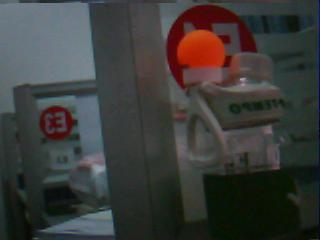oball: (176, 30, 225, 69)
